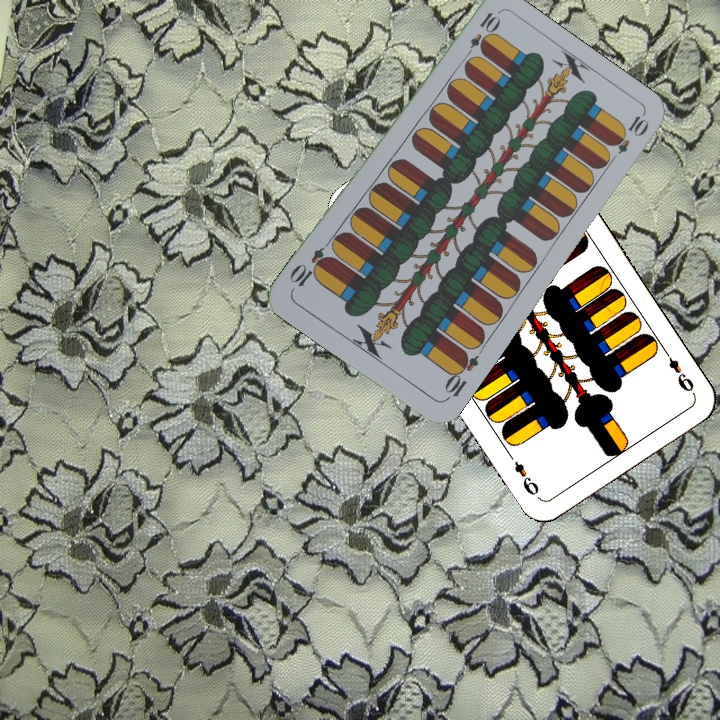E10: (460, 8, 502, 63), (440, 347, 481, 403)
E9: (659, 344, 697, 395)
